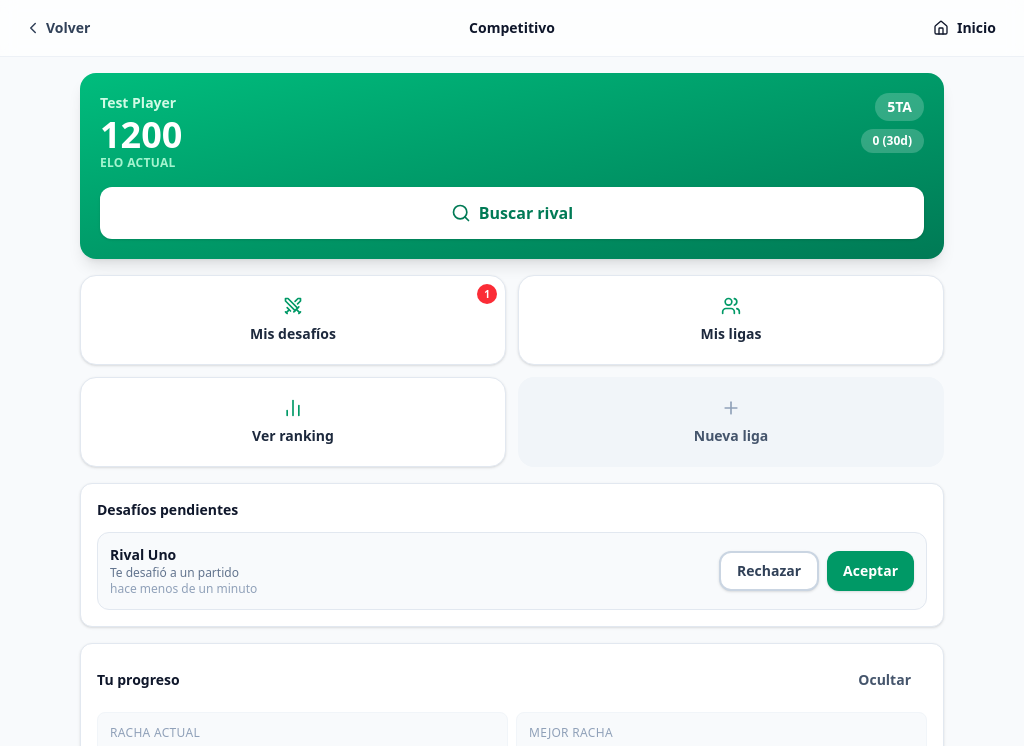
CompetitivePage onboarding gate › accept removes card
The width and height of the screenshot is (1024, 746).
Step 1. Click the button "Aceptar" → (871, 571), box [827,551,914,591]
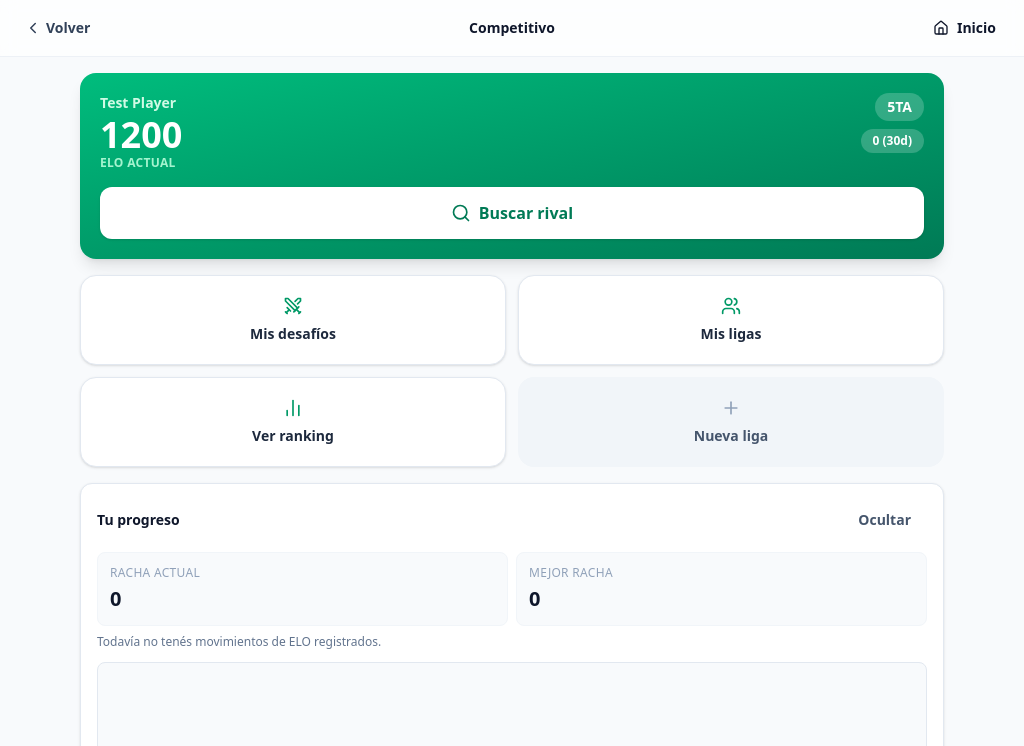
Expected: the text "Rival Uno" is gone
